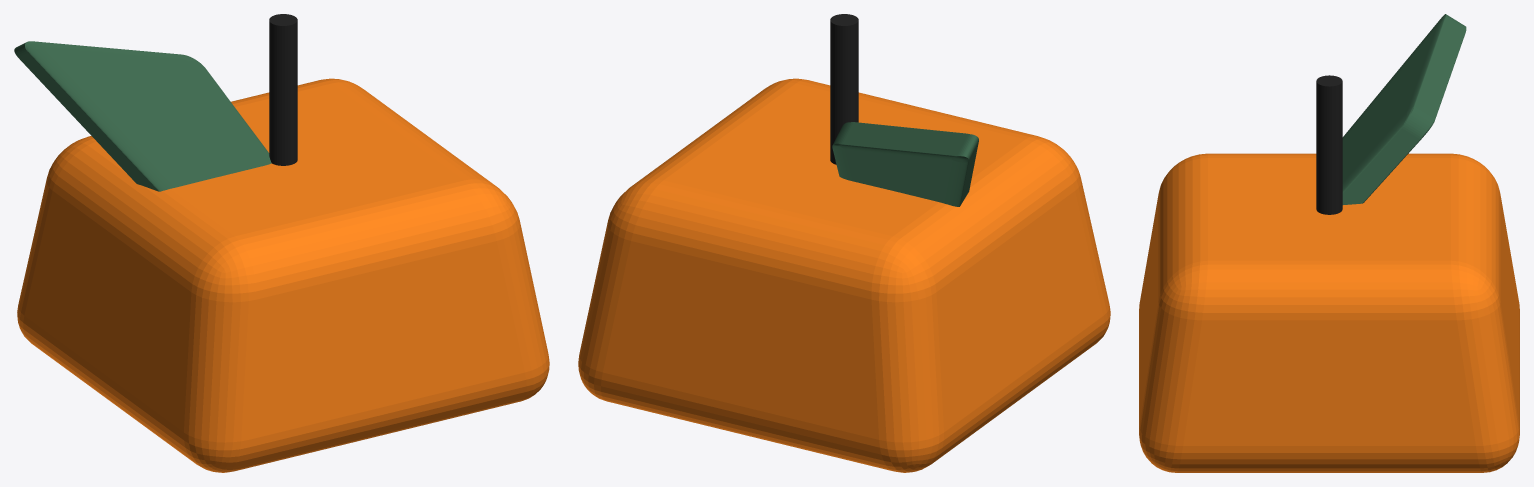
Rendered from orange.fbx.
The picture shows the model from 3 angles, left to right: view 1: azimuth 30°, elevation 25°; view 2: azimuth 150°, elevation 25°; view 3: azimuth 270°, elevation 25°; orthographic projection. The views are drawn at different scales.
Parts seen in each view (by area): view 1: Cube, Cube.001, Cylinder; view 2: Cube, Cube.001, Cylinder; view 3: Cube, Cube.001, Cylinder.
Part boxes in pixels (bbox=[...]): Cube: bbox=[17, 78, 549, 472]; Cube.001: bbox=[14, 41, 271, 191]; Cylinder: bbox=[269, 14, 297, 165]; Cube: bbox=[578, 78, 1110, 472]; Cube.001: bbox=[832, 122, 978, 206]; Cylinder: bbox=[830, 14, 858, 164]; Cube: bbox=[1139, 153, 1519, 472]; Cube.001: bbox=[1342, 14, 1466, 204]; Cylinder: bbox=[1316, 75, 1342, 214].
Bounding box in the file's own units: 203 × 182 × 194.
